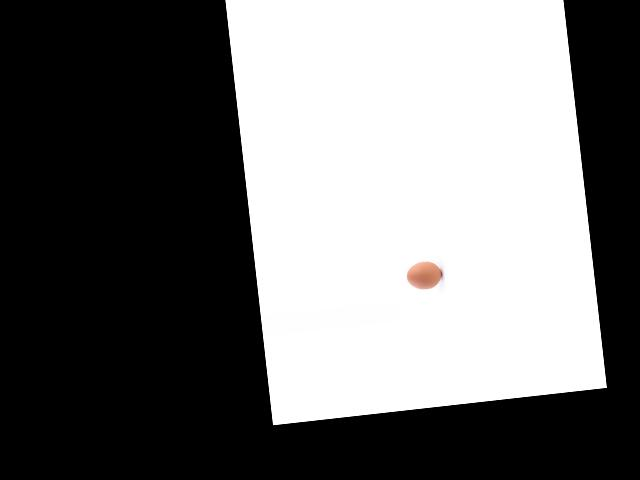egg: (405, 260, 442, 291)
